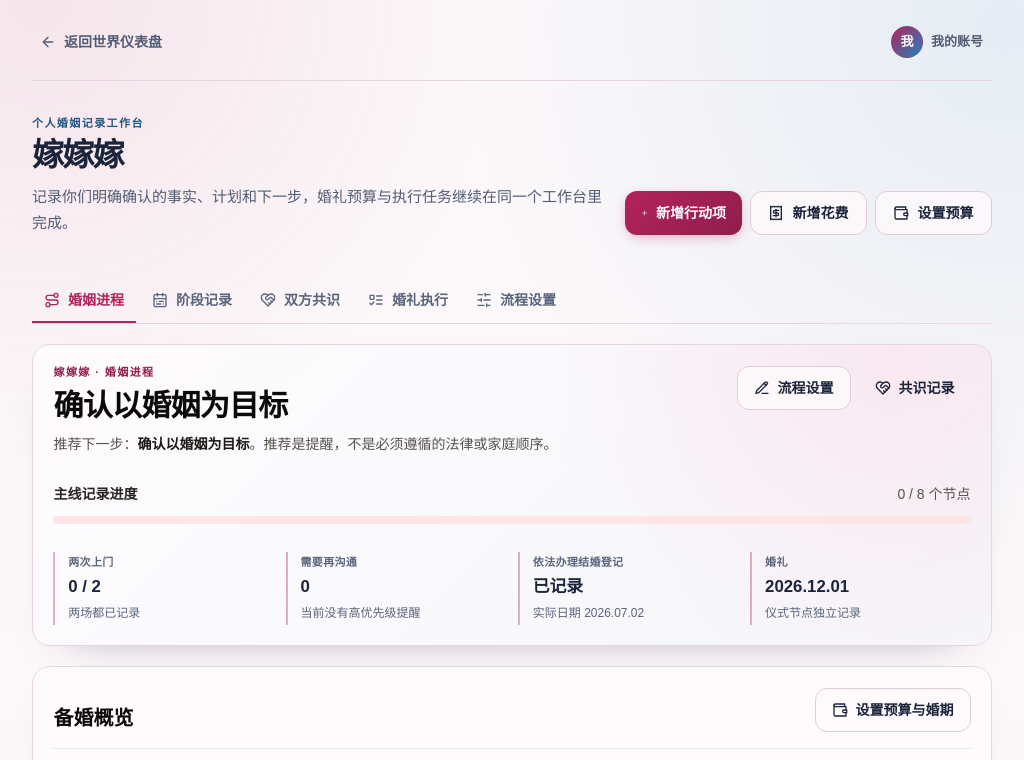
Test: Wedding page › renders process labels and preserves separate registration and wedding facts
Click the tab "流程设置" at (516, 301), box [464,279,568,323]
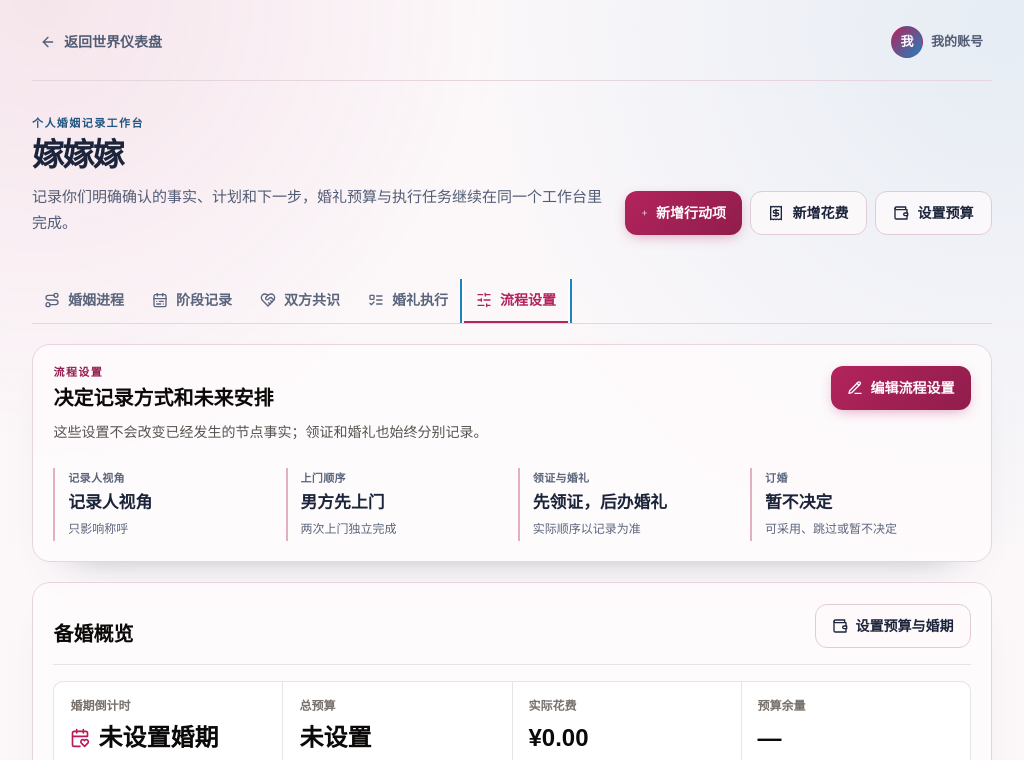
Click the tab "阶段记录" at (192, 301), box [140,279,244,323]
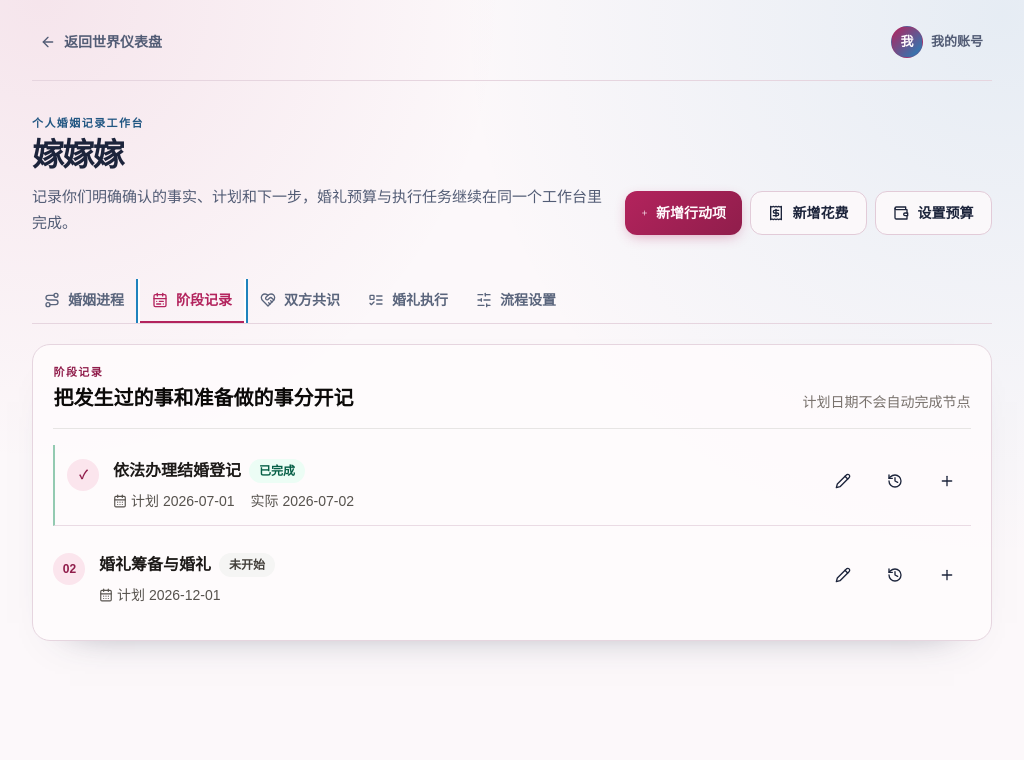
Check: the heading "依法办理结婚登记" is shown, box [113,459,241,483]
Check: the heading "婚礼筹备与婚礼" is shown, box [99,553,211,577]
